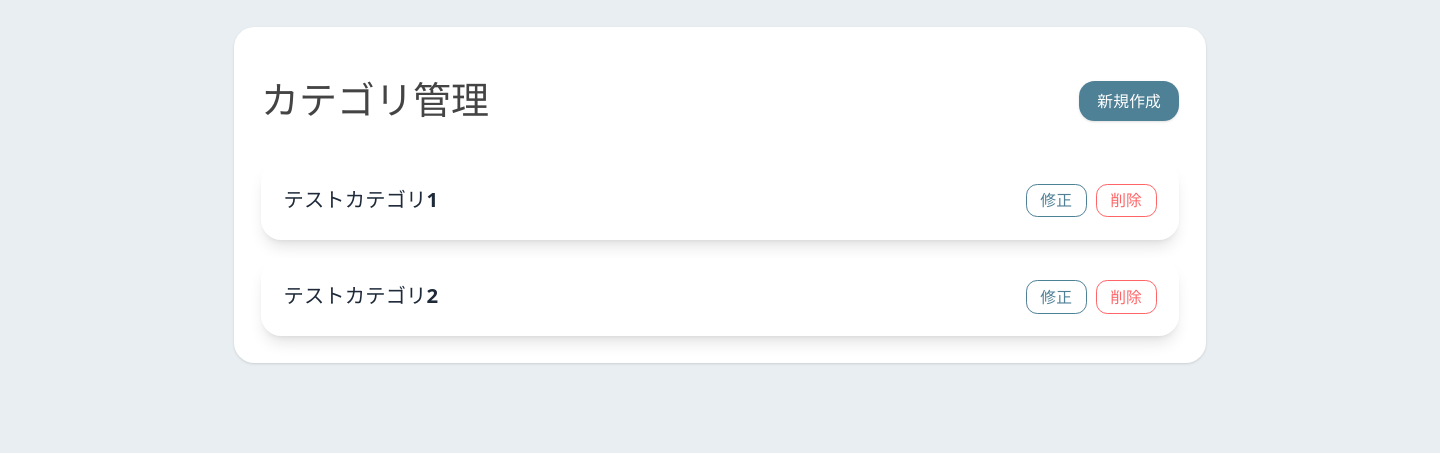
Test case: CategoryManage › 削除ボタンをクリックするとカテゴリが削除される
The image size is (1440, 470).
Expected: the text "テストカテゴリ1" is shown, [284,185,438,213]
What coordinates should you click on to do the following:
click the button "削除" in the row of "テストカテゴリ1"
I would click on:
 (1126, 200)
Its box is [1096,184,1156,217].
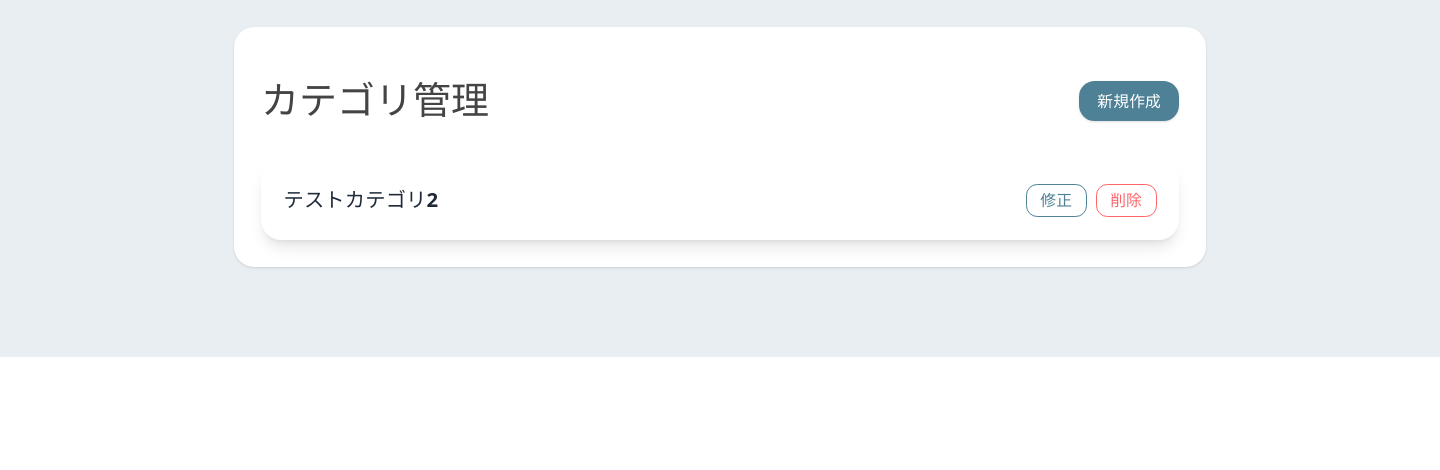
Expected: the text "テストカテゴリ1" is gone
